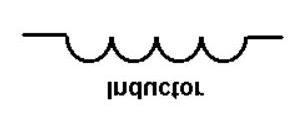inductor: (53, 18, 274, 66)
